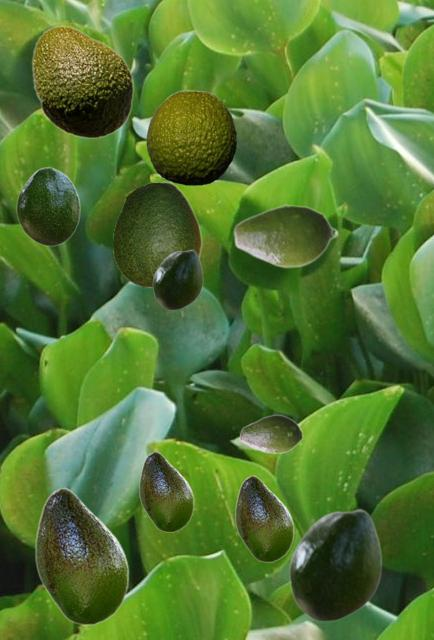avocado: (35, 487, 128, 624), (31, 25, 133, 138), (288, 508, 381, 621), (112, 181, 201, 286), (146, 90, 235, 184), (232, 203, 338, 268), (235, 475, 293, 561), (16, 167, 79, 245), (139, 451, 193, 531), (152, 249, 202, 309), (239, 414, 302, 453)
